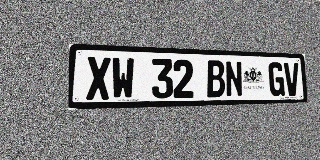2: (173, 59, 193, 98)
3: (152, 58, 173, 99)
B: (206, 60, 225, 97)
G: (268, 62, 285, 96)
N: (225, 61, 243, 97)
V: (284, 63, 300, 96)
W: (111, 57, 134, 99)
X: (86, 56, 111, 100)
